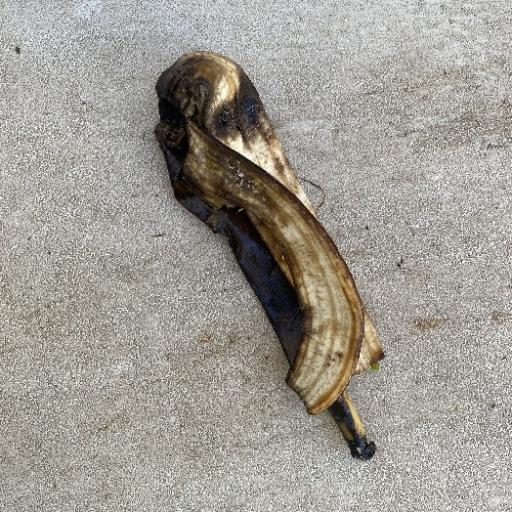Waste: (151, 49, 386, 460)
